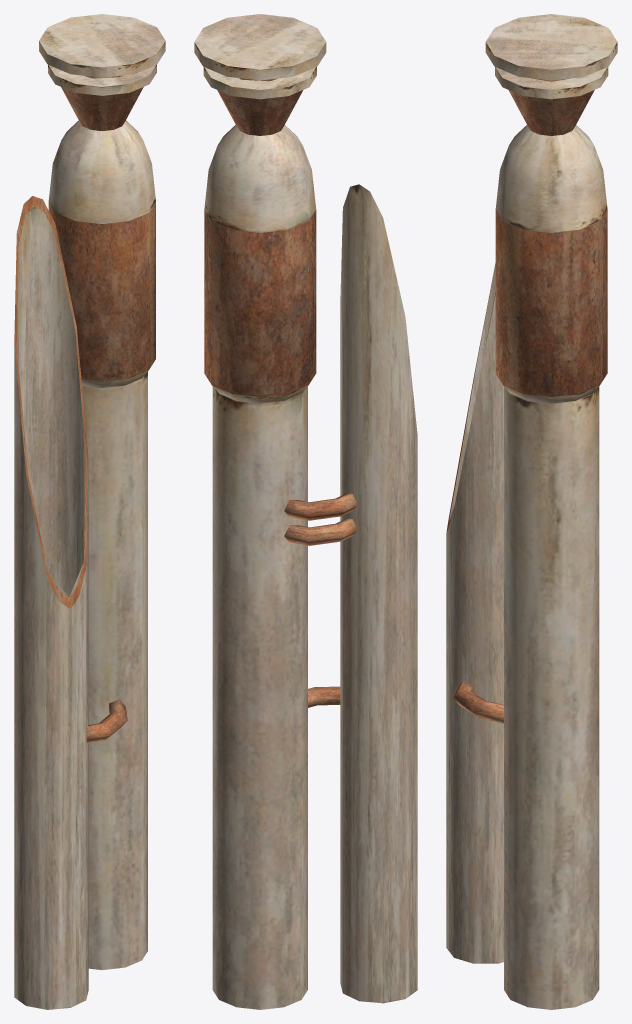
Rendered from thm_tato_debris_s04_l1.fbx.
3 views of the same model, side by side, from view 1: azimuth 30°, elevation 25°; view 2: azimuth 150°, elevation 25°; view 3: azimuth 270°, elevation 25° (orthographic). The views are drawn at different scales.
Parts seen in each view (by area): view 1: mesh_node; view 2: mesh_node; view 3: mesh_node.
Boxes of the visible parts, box(x1,y1,x2,y2) form: mesh_node: box(14, 14, 165, 1009); mesh_node: box(194, 14, 417, 1009); mesh_node: box(446, 14, 617, 1009).
Bounding box in the file's own units: 1.02 × 5.28 × 0.8636.
2 materials, 2 textured.
